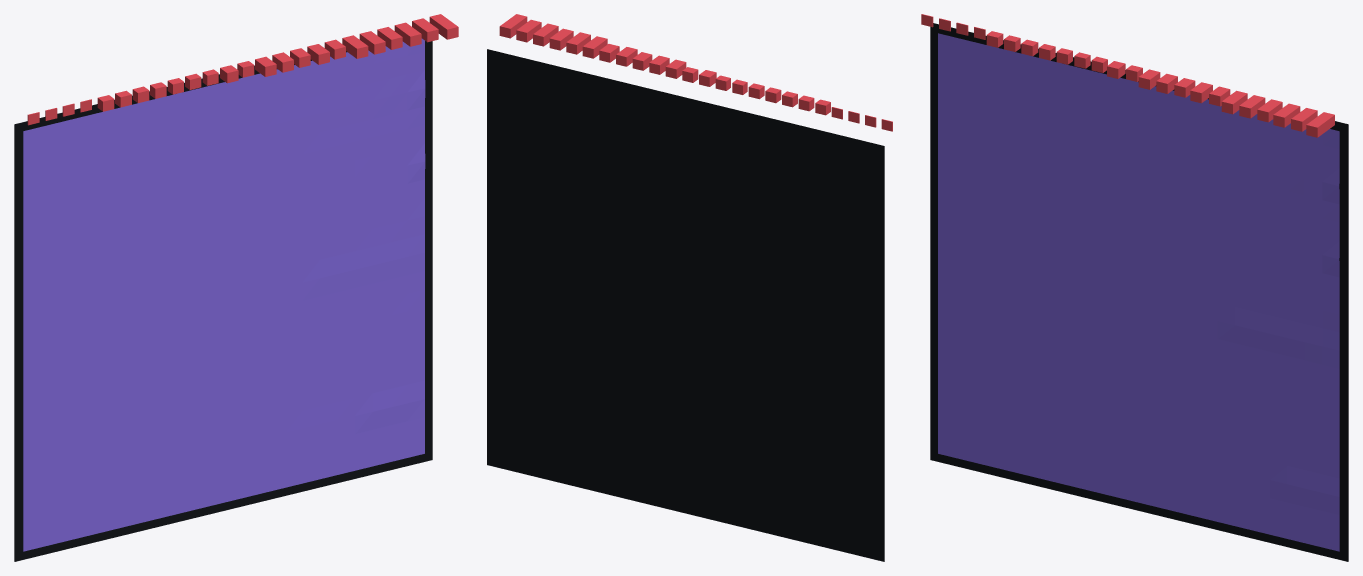
3 views of the same model, side by side, from view 1: azimuth 30°, elevation 25°; view 2: azimuth 150°, elevation 25°; view 3: azimuth 330°, elevation 25° (orthographic). The views are drawn at different scales.
Parts seen in each view (by area): view 1: error_surface, base, f32_strip; view 2: base, f32_strip; view 3: error_surface, base, f32_strip.
Boxes of the visible parts, x1,y1,x2,y2 form: error_surface: (23, 38, 425, 551); base: (14, 41, 432, 561); f32_strip: (27, 14, 458, 125); base: (487, 49, 884, 561); f32_strip: (499, 14, 892, 131); error_surface: (938, 33, 1339, 551); base: (930, 23, 1348, 561); f32_strip: (921, 14, 1334, 137).
Size of the model in its own units: 25.84 by 26.84 by 3.06.
